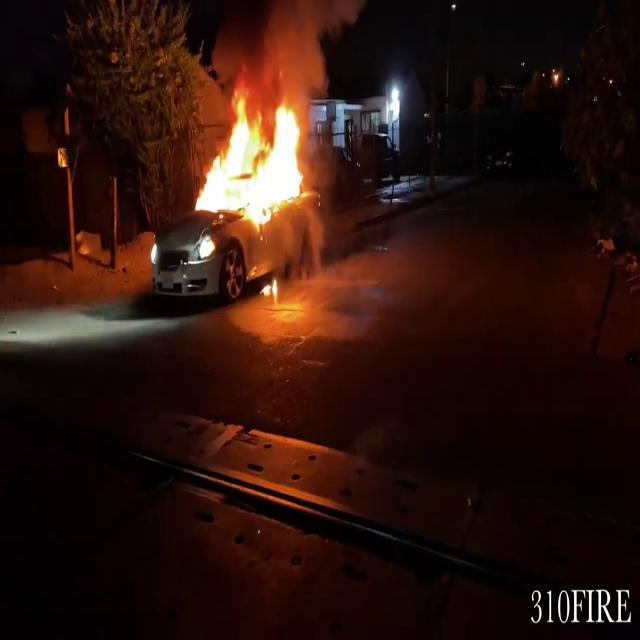Fire: (193, 82, 314, 227)
Smoke: (220, 0, 338, 100)
